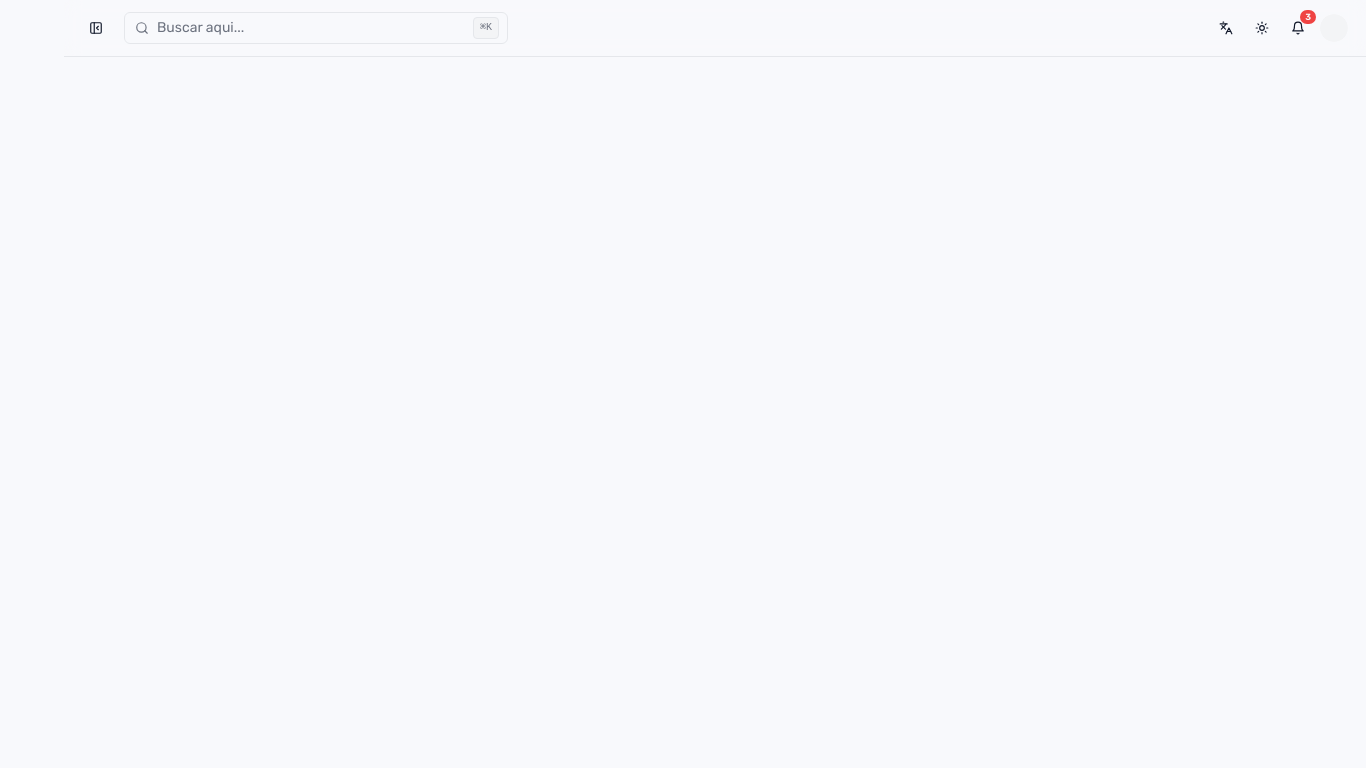
Test: global search › finds a page by a keyword that is not in its name
Click the button "Buscar aqui... ⌘K".
click(201, 28)  # box [124, 12, 508, 44]
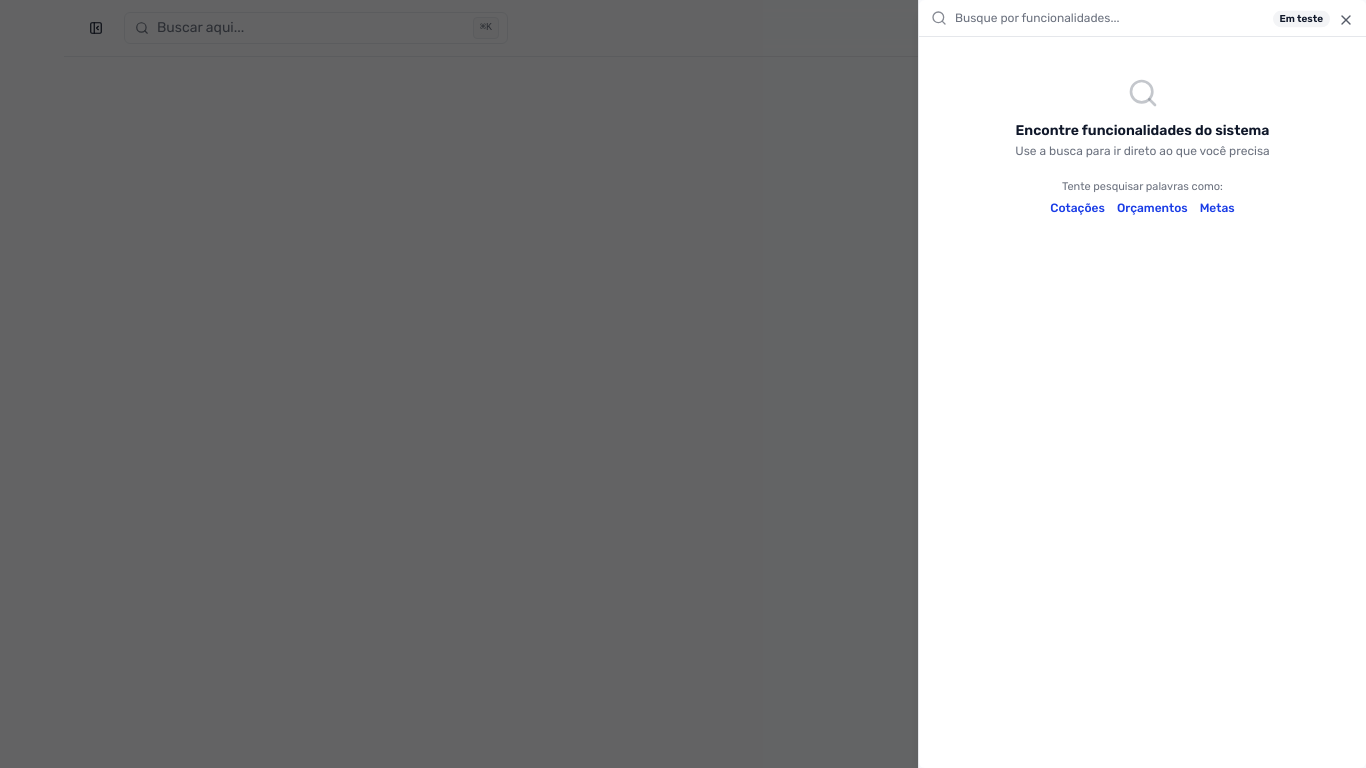
Type "bitcoin" into the dropdown.
click(1154, 18); type("bitcoin")  # box [955, 0, 1354, 36]
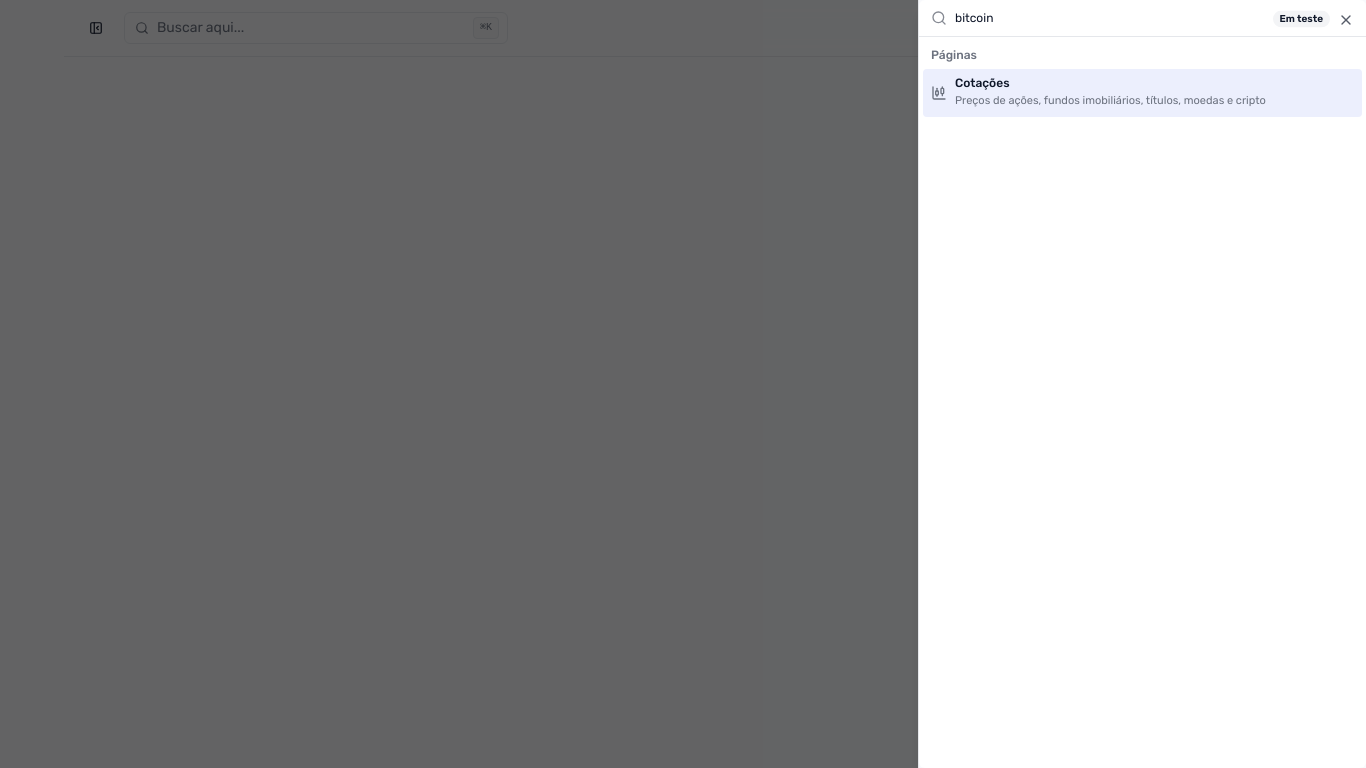
Check: the number of options is 1, box [923, 69, 1362, 117]
Check: the option shows "Cotações", box [923, 69, 1362, 117]
